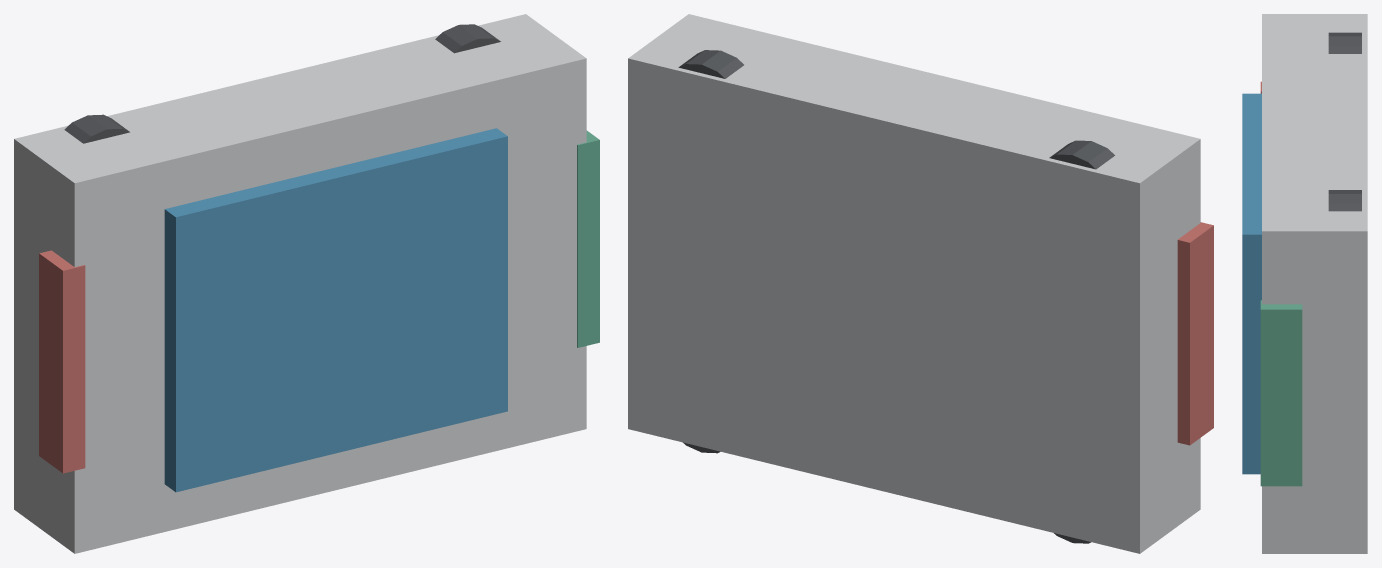
File: pallet_amr.glb
3 views of the same model, side by side, from view 1: azimuth 30°, elevation 25°; view 2: azimuth 150°, elevation 25°; view 3: azimuth 270°, elevation 25° (orthographic). The views are drawn at different scales.
Parts seen in each view (by area): view 1: world; view 2: world; view 3: world.
Boxes of the visible parts, x1,y1,x2,y2 form: world: (14, 14, 599, 553); world: (628, 14, 1213, 553); world: (1242, 14, 1367, 553).
Bounding box in the file's own units: 1.94 × 1.34 × 0.45.
